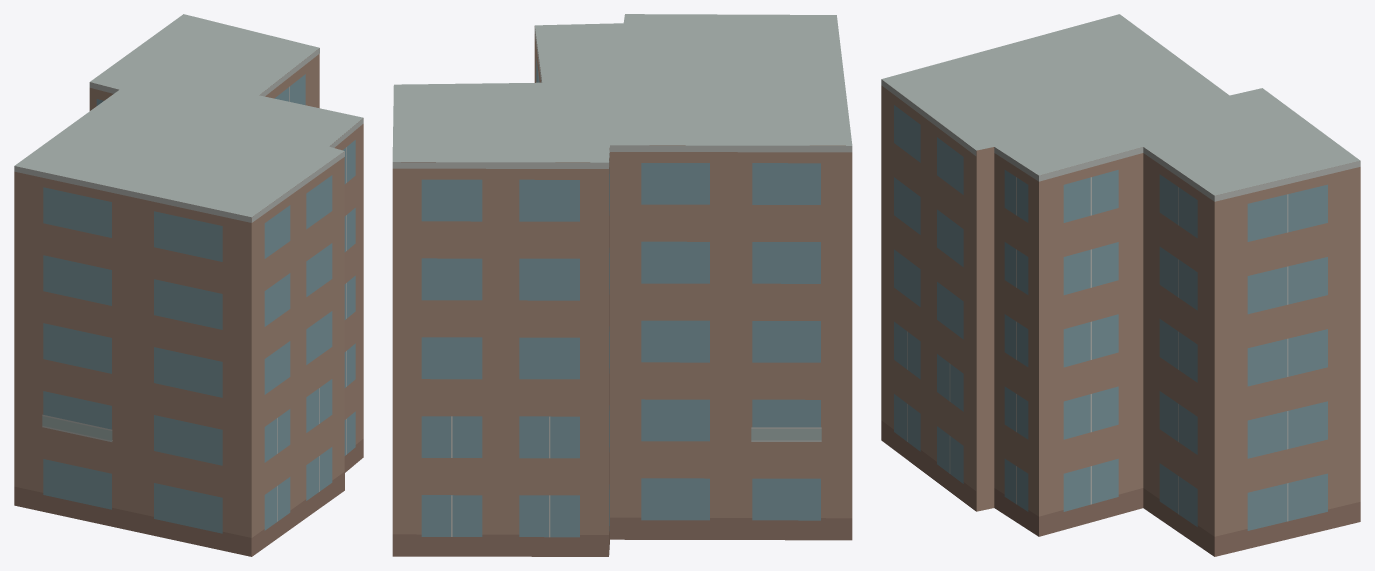
Rendered from survey-upis-32598531.glb.
The picture shows the model from 3 angles, left to right: view 1: azimuth 30°, elevation 25°; view 2: azimuth 150°, elevation 25°; view 3: azimuth 270°, elevation 25°; orthographic projection. The views are drawn at different scales.
Visible parts, largest first — view 1: survey-upis-32598531.tmp; view 2: survey-upis-32598531.tmp; view 3: survey-upis-32598531.tmp.
Boxes of the visible parts, <box> form: survey-upis-32598531.tmp: <box>14,14,363,556</box>; survey-upis-32598531.tmp: <box>392,14,852,556</box>; survey-upis-32598531.tmp: <box>881,14,1360,556</box>.
Bounding box in the file's own units: 15.77 × 14.6 × 17.57.
